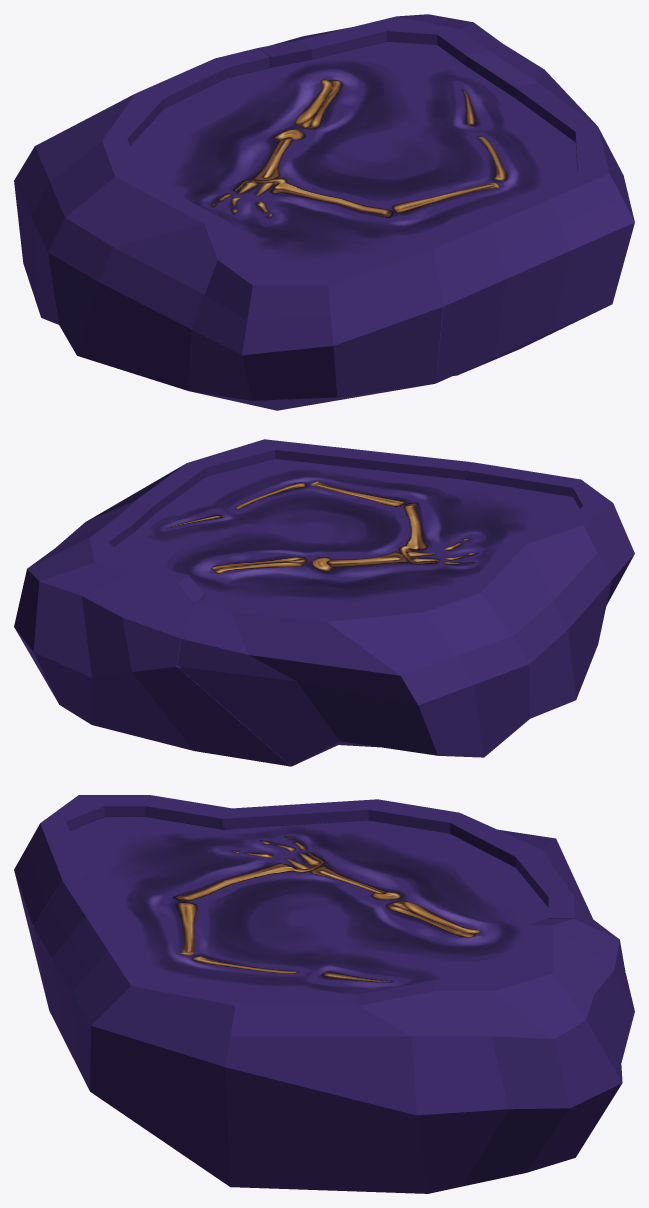
The model's file is rockNodeWing.fbx.
The picture shows the model from 3 angles, top to bottom: view 1: azimuth 30°, elevation 25°; view 2: azimuth 150°, elevation 25°; view 3: azimuth 270°, elevation 25°; orthographic projection. The views are drawn at different scales.
Parts seen in each view (by area): view 1: Cube; view 2: Cube; view 3: Cube.
Boxes of the visible parts, x1=… form: Cube: x1=14, y1=14, x2=634, y2=410; Cube: x1=14, y1=439, x2=634, y2=766; Cube: x1=14, y1=795, x2=634, y2=1193.
Bounding box in the file's own units: 842 × 295 × 800.
Materials: 1 (1 with a texture image).
